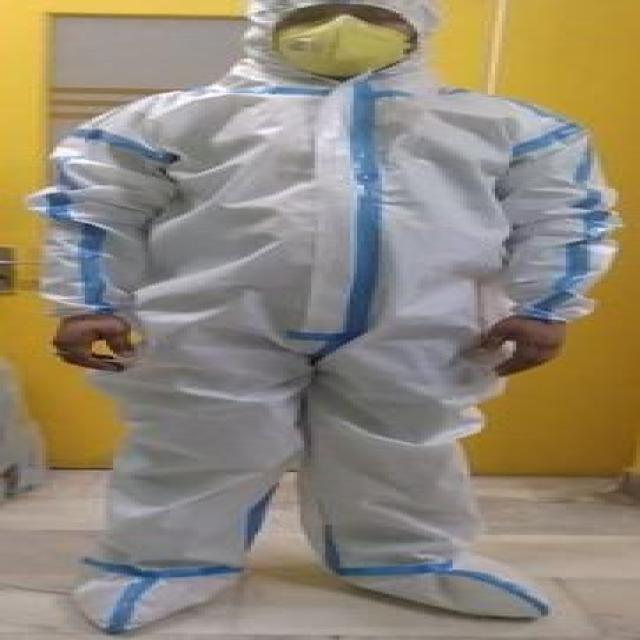Coverall: (32, 0, 626, 636)
Mask: (283, 16, 407, 75)
